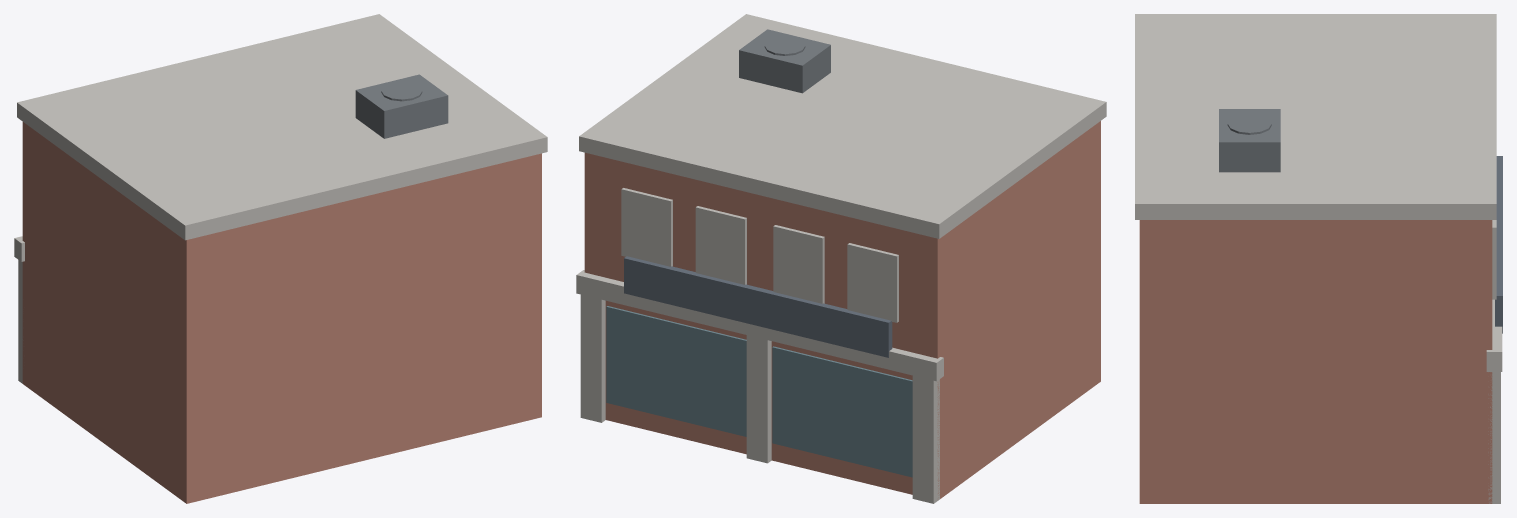
File: Building_Storefront_2Story.fbx
3 renders of one model, left to right at view 1: azimuth 30°, elevation 25°; view 2: azimuth 150°, elevation 25°; view 3: azimuth 270°, elevation 25°, orthographic. The views are drawn at different scales.
Parts seen in each view (by area): view 1: Building_Storefront_2Story; view 2: Building_Storefront_2Story; view 3: Building_Storefront_2Story.
Part boxes in pixels (bbox=[...]): Building_Storefront_2Story: bbox=[14, 14, 547, 503]; Building_Storefront_2Story: bbox=[576, 14, 1106, 503]; Building_Storefront_2Story: bbox=[1135, 14, 1502, 503].
Size of the model in its own units: 10.2 by 8.35 by 8.34.
